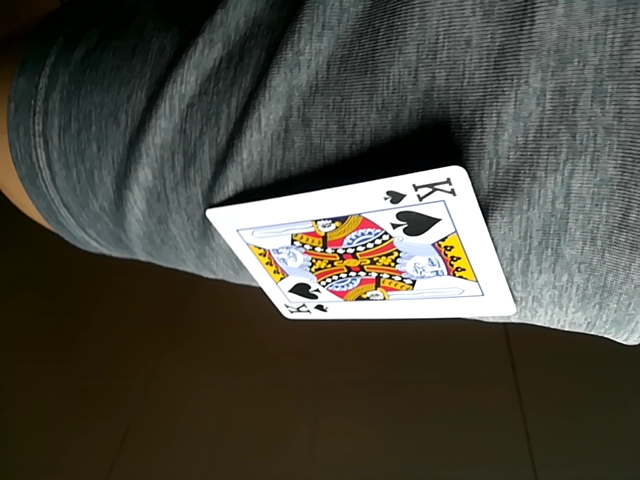ht k: (208, 164, 510, 320)
